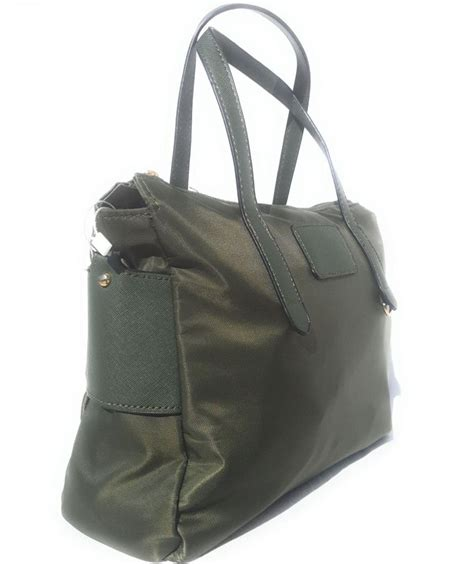nylon: (55, 170, 393, 562)
